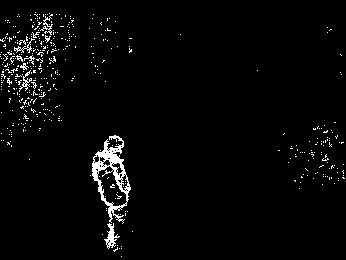person: (91, 133, 131, 260)
